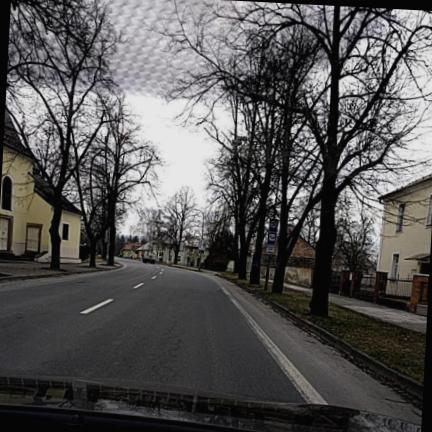Road: (0, 261, 421, 421)
